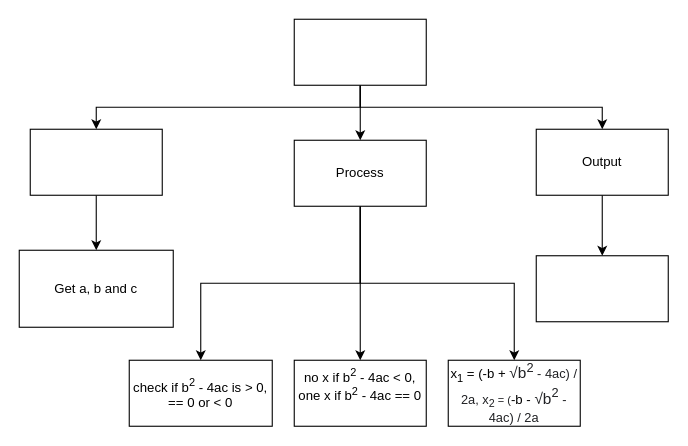
This 688x446 diagram has some shape labels left out. The shapes that lost their labels are listed below. From the top down, each one's centre as x and y in pixels, then its label:
At point 359,51: "quadratic equation".
At point 95,161: "Input".
At point 601,288: "Show the result x".
